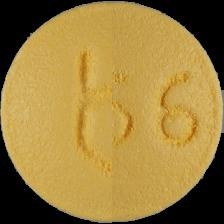54868-6276: (0, 0, 224, 224)
